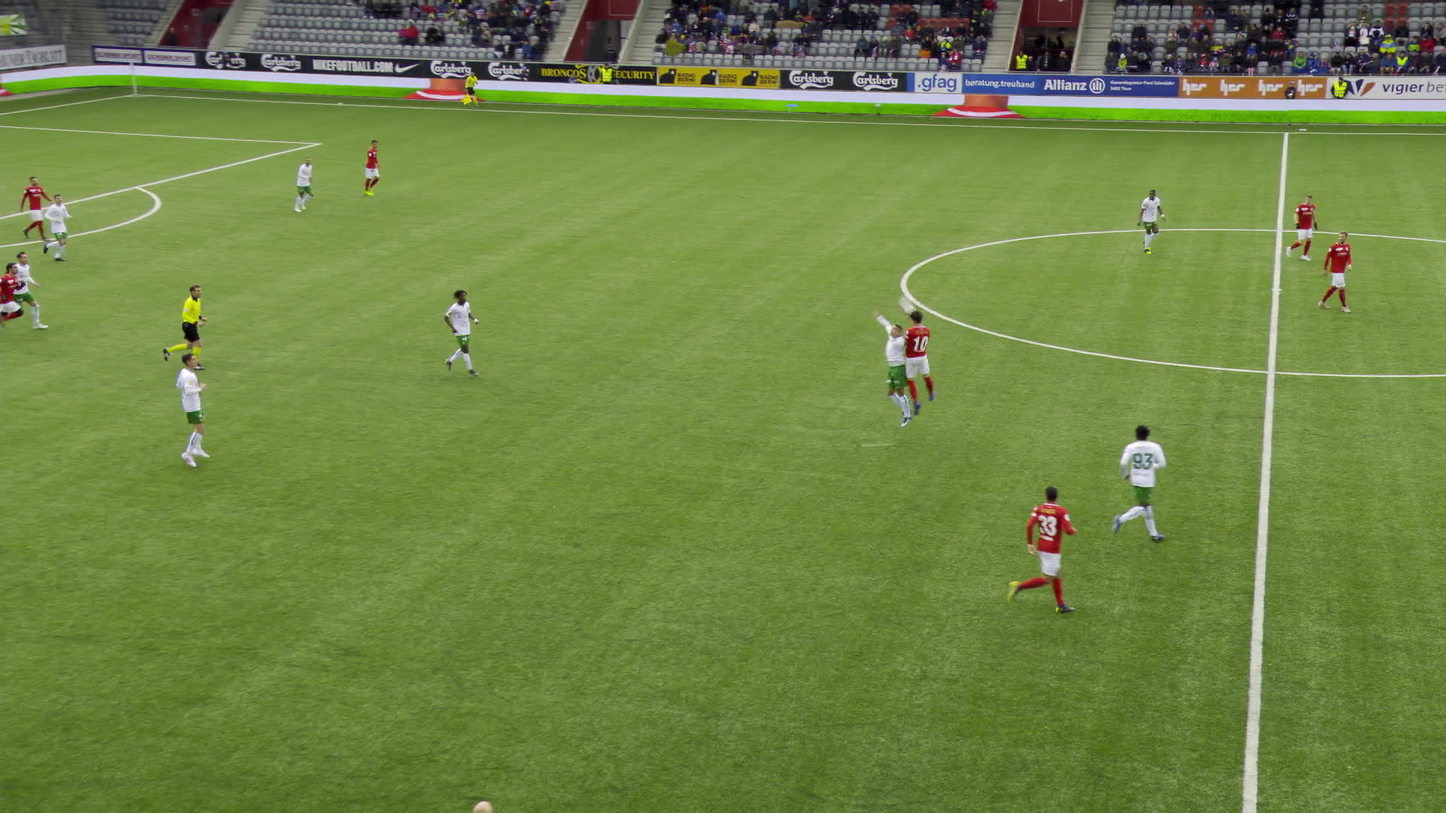ball: (872, 266, 895, 290)
player: (999, 477, 1080, 614), (1105, 419, 1169, 553), (874, 301, 920, 434), (898, 309, 946, 419), (172, 352, 213, 470), (2, 249, 51, 330), (440, 288, 482, 379), (1315, 228, 1358, 315), (18, 172, 57, 244), (38, 190, 75, 264), (1132, 187, 1169, 256), (1283, 192, 1319, 262), (0, 261, 27, 336), (292, 156, 317, 213), (361, 139, 384, 196)
referee: (160, 282, 212, 370), (459, 69, 483, 110)
